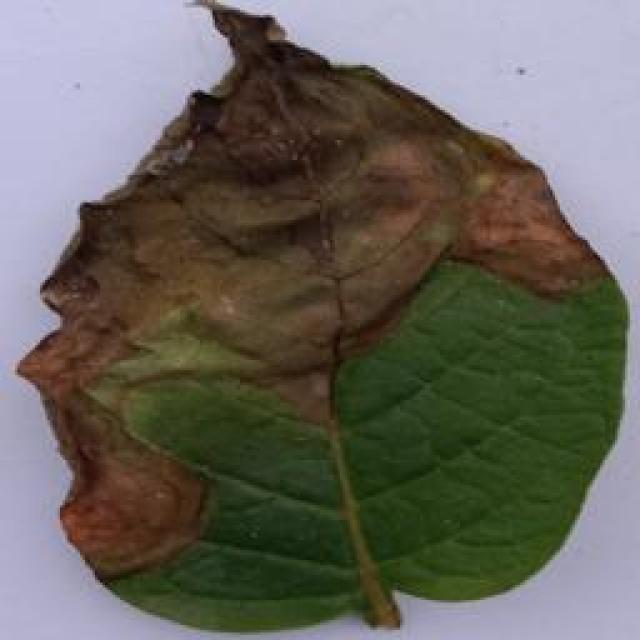Potato_Late_Blight: (20, 6, 614, 636)
